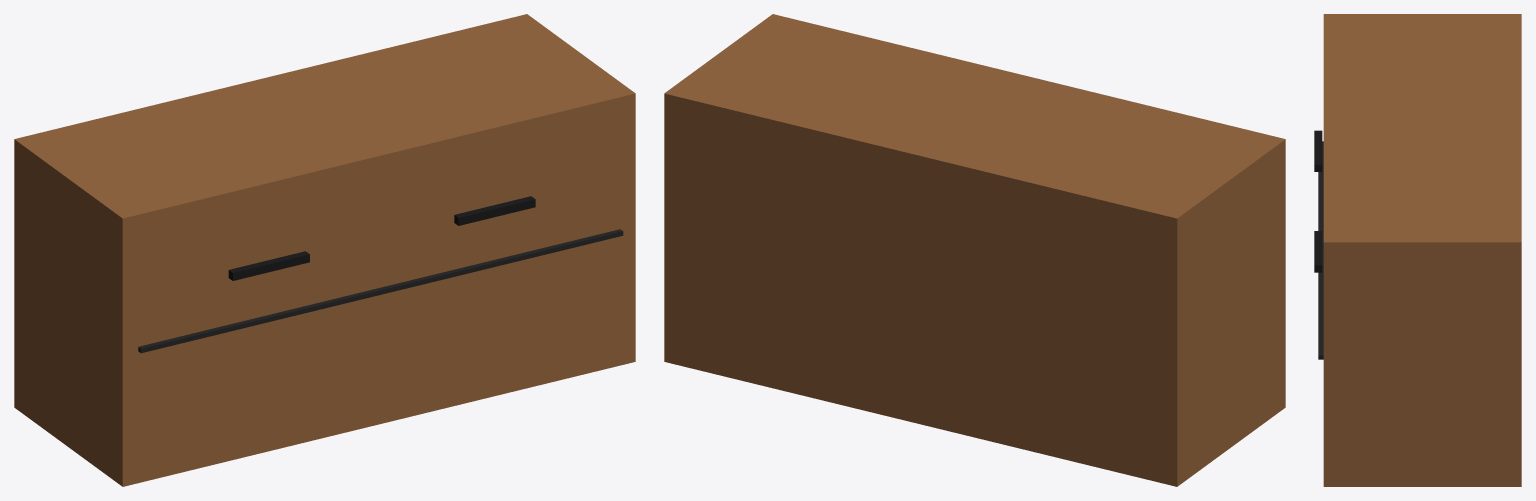
Rendered from BTH-0035.glb.
3 views of the same model, side by side, from view 1: azimuth 30°, elevation 25°; view 2: azimuth 150°, elevation 25°; view 3: azimuth 270°, elevation 25° (orthographic). The views are drawn at different scales.
Visible parts, largest first — view 1: vanity; view 2: vanity; view 3: vanity.
Part boxes in pixels (x1=…): vanity: x1=14, y1=14, x2=635, y2=486; vanity: x1=664, y1=14, x2=1285, y2=486; vanity: x1=1314, y1=14, x2=1521, y2=486.
Size of what is drawn, in the model's own units: 1.2 by 0.6 by 0.46.
